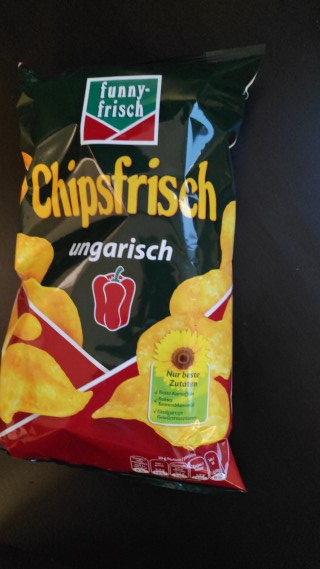chipsfrisch: (1, 42, 265, 498)
